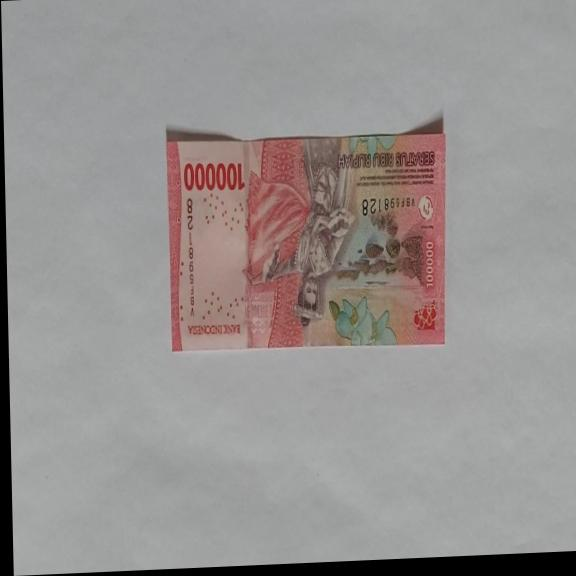Kertas: (165, 126, 450, 357), (182, 159, 244, 195)
